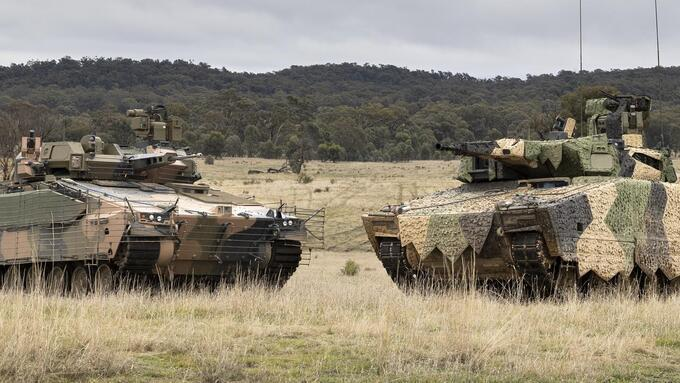MIL_IFV: (359, 94, 680, 309), (0, 102, 327, 298)
